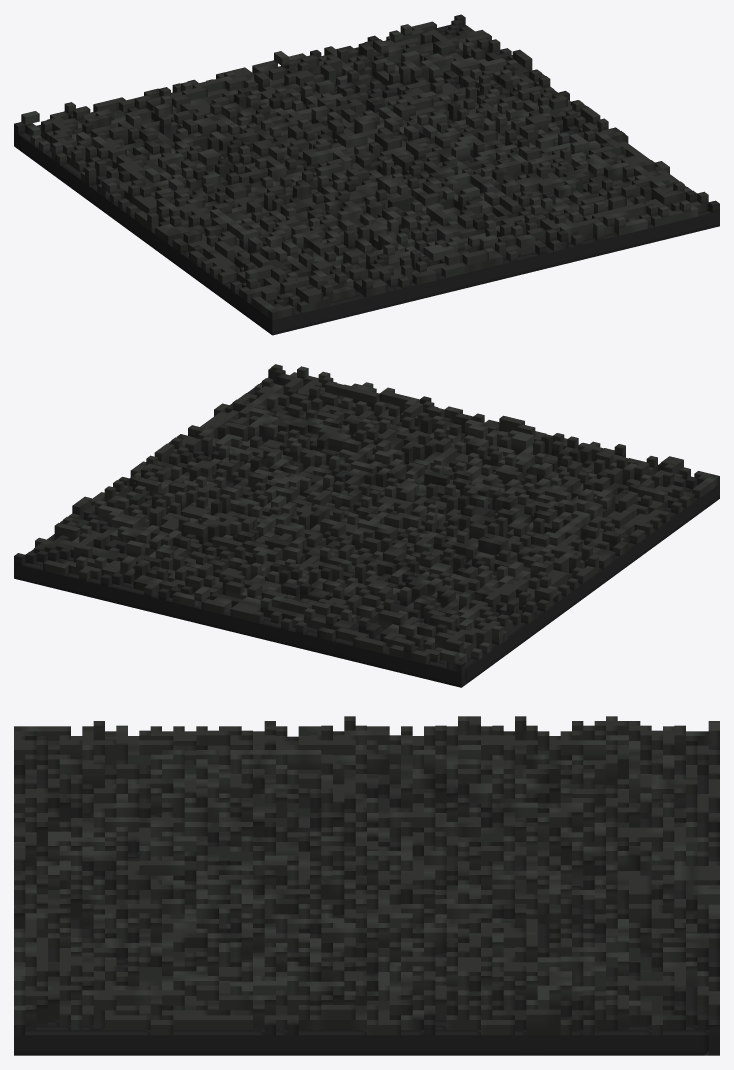
File: DarkFloor.fbx
3 views of the same model, one above another, from view 1: azimuth 30°, elevation 25°; view 2: azimuth 150°, elevation 25°; view 3: azimuth 270°, elevation 25° (orthographic). The views are drawn at different scales.
Parts seen in each view (by area): view 1: Model; view 2: Model; view 3: Model.
Boxes of the visible parts, x1,y1,x2,y2 form: Model: [14, 14, 719, 335]; Model: [14, 364, 719, 687]; Model: [14, 716, 719, 1055].
Bounding box in the file's own units: 3200 × 206 × 3200.
Materials: 1 (1 with a texture image).
